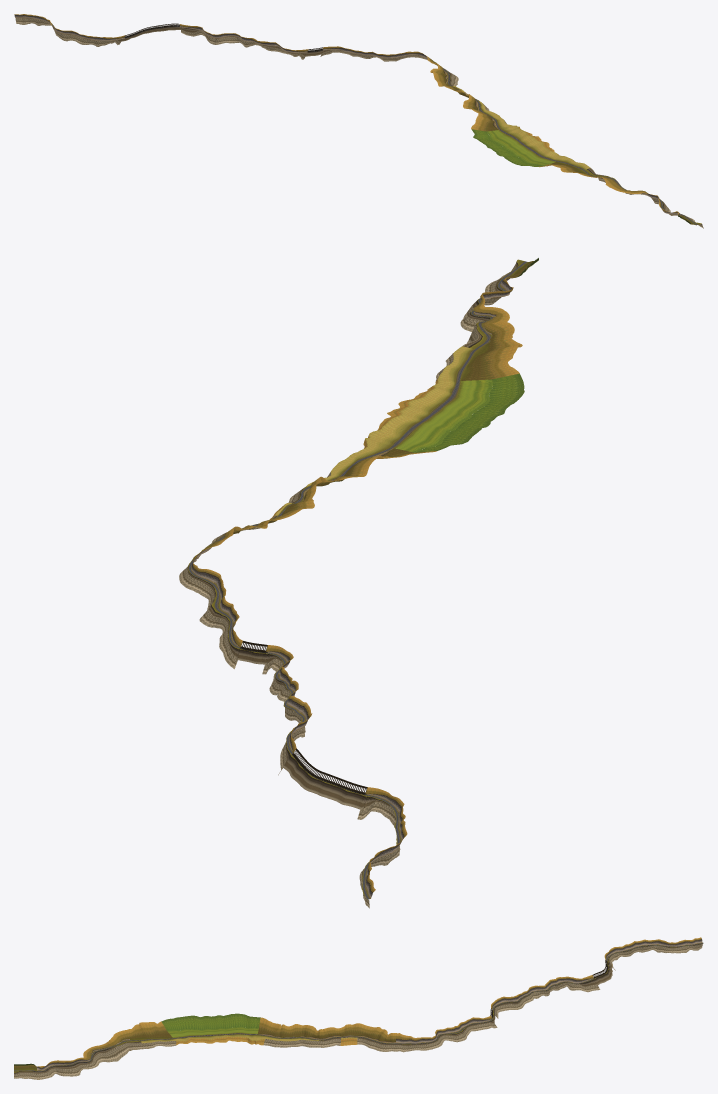
Rendered from course-cl2.glb.
The picture shows the model from 3 angles, top to bottom: view 1: azimuth 30°, elevation 25°; view 2: azimuth 150°, elevation 25°; view 3: azimuth 270°, elevation 25°; orthographic projection. The views are drawn at different scales.
Visible parts, largest first — view 1: course-cl2; view 2: course-cl2; view 3: course-cl2.
Boxes of the visible parts, <box> form: course-cl2: <box>14,14,703,228</box>; course-cl2: <box>179,258,538,908</box>; course-cl2: <box>14,937,703,1079</box>.
Size of the model in its own units: 3999 by 369 by 8657.
Materials: 61 (61 with a texture image).
